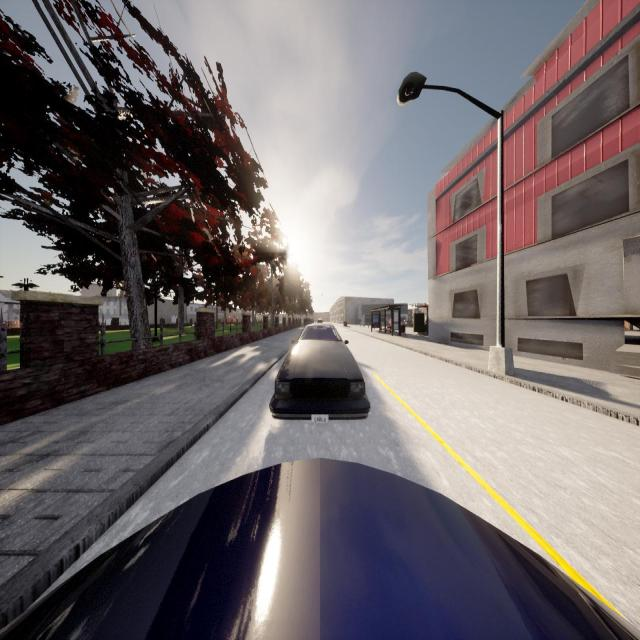Vehicle: (0, 461, 640, 640), (269, 322, 370, 419), (318, 318, 322, 322)
